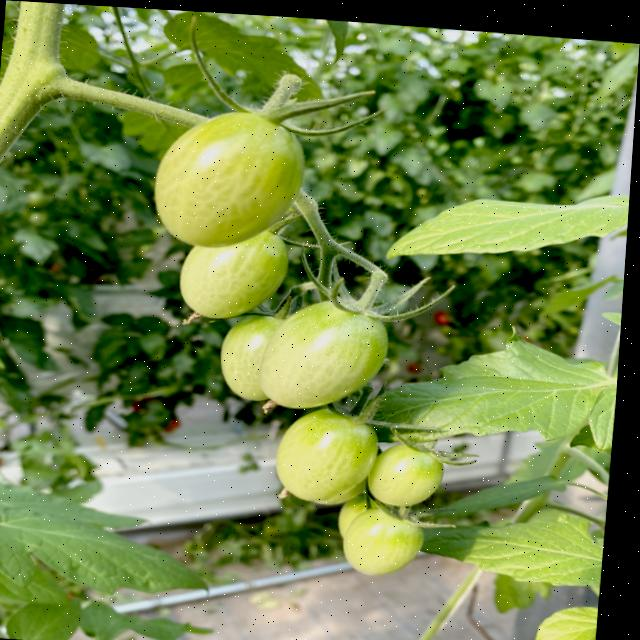ripe0: (149, 104, 313, 252), (257, 294, 391, 415), (271, 406, 376, 507), (172, 241, 274, 321), (342, 505, 427, 578), (365, 437, 446, 512)
